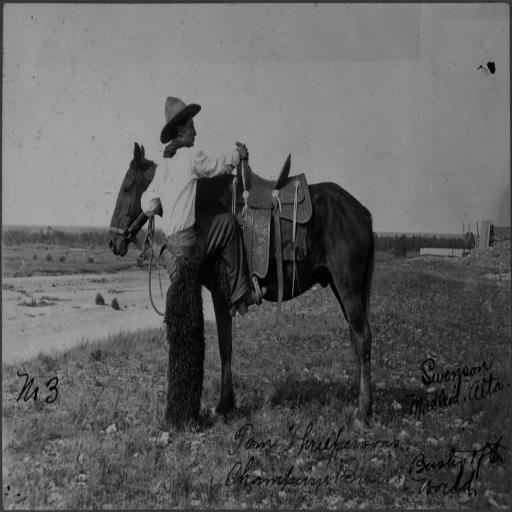horse: (107, 140, 377, 429)
